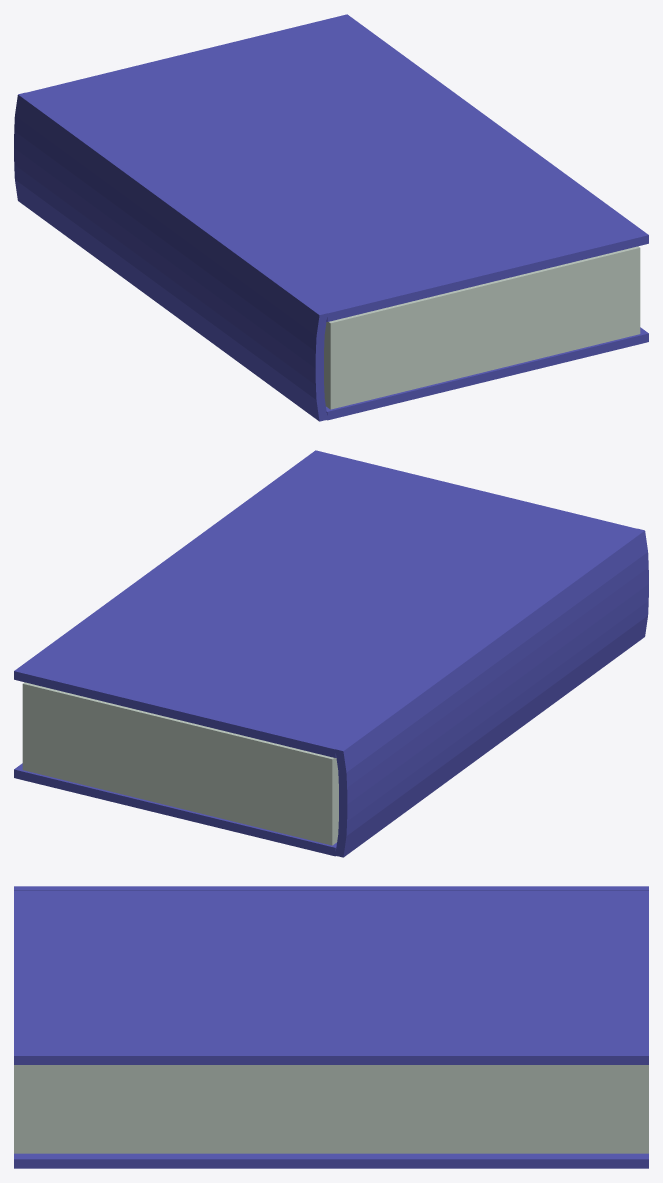
File: book_resized_MAT.fbx
3 views of the same model, one above another, from view 1: azimuth 30°, elevation 25°; view 2: azimuth 150°, elevation 25°; view 3: azimuth 270°, elevation 25° (orthographic). The views are drawn at different scales.
Visible parts, largest first — view 1: book cover, book spine, book pages, book bottom; view 2: book cover, book spine, book pages, book bottom; view 3: book cover, book pages, book bottom, book spine.
Boxes of the visible parts, x1,y1,x2,y2 form: book cover: (27,14,648,321); book spine: (14,92,327,421); book pages: (324,246,640,409); book bottom: (326,327,648,420); book cover: (14,450,635,757); book spine: (335,528,648,857); book pages: (22,682,338,845); book bottom: (14,763,336,856); book cover: (14,891,648,1064); book pages: (14,1065,648,1153); book bottom: (14,1153,648,1168); book spine: (14,886,648,890).
Size of the model in its own units: 32.04 by 9.84 by 50.22.
